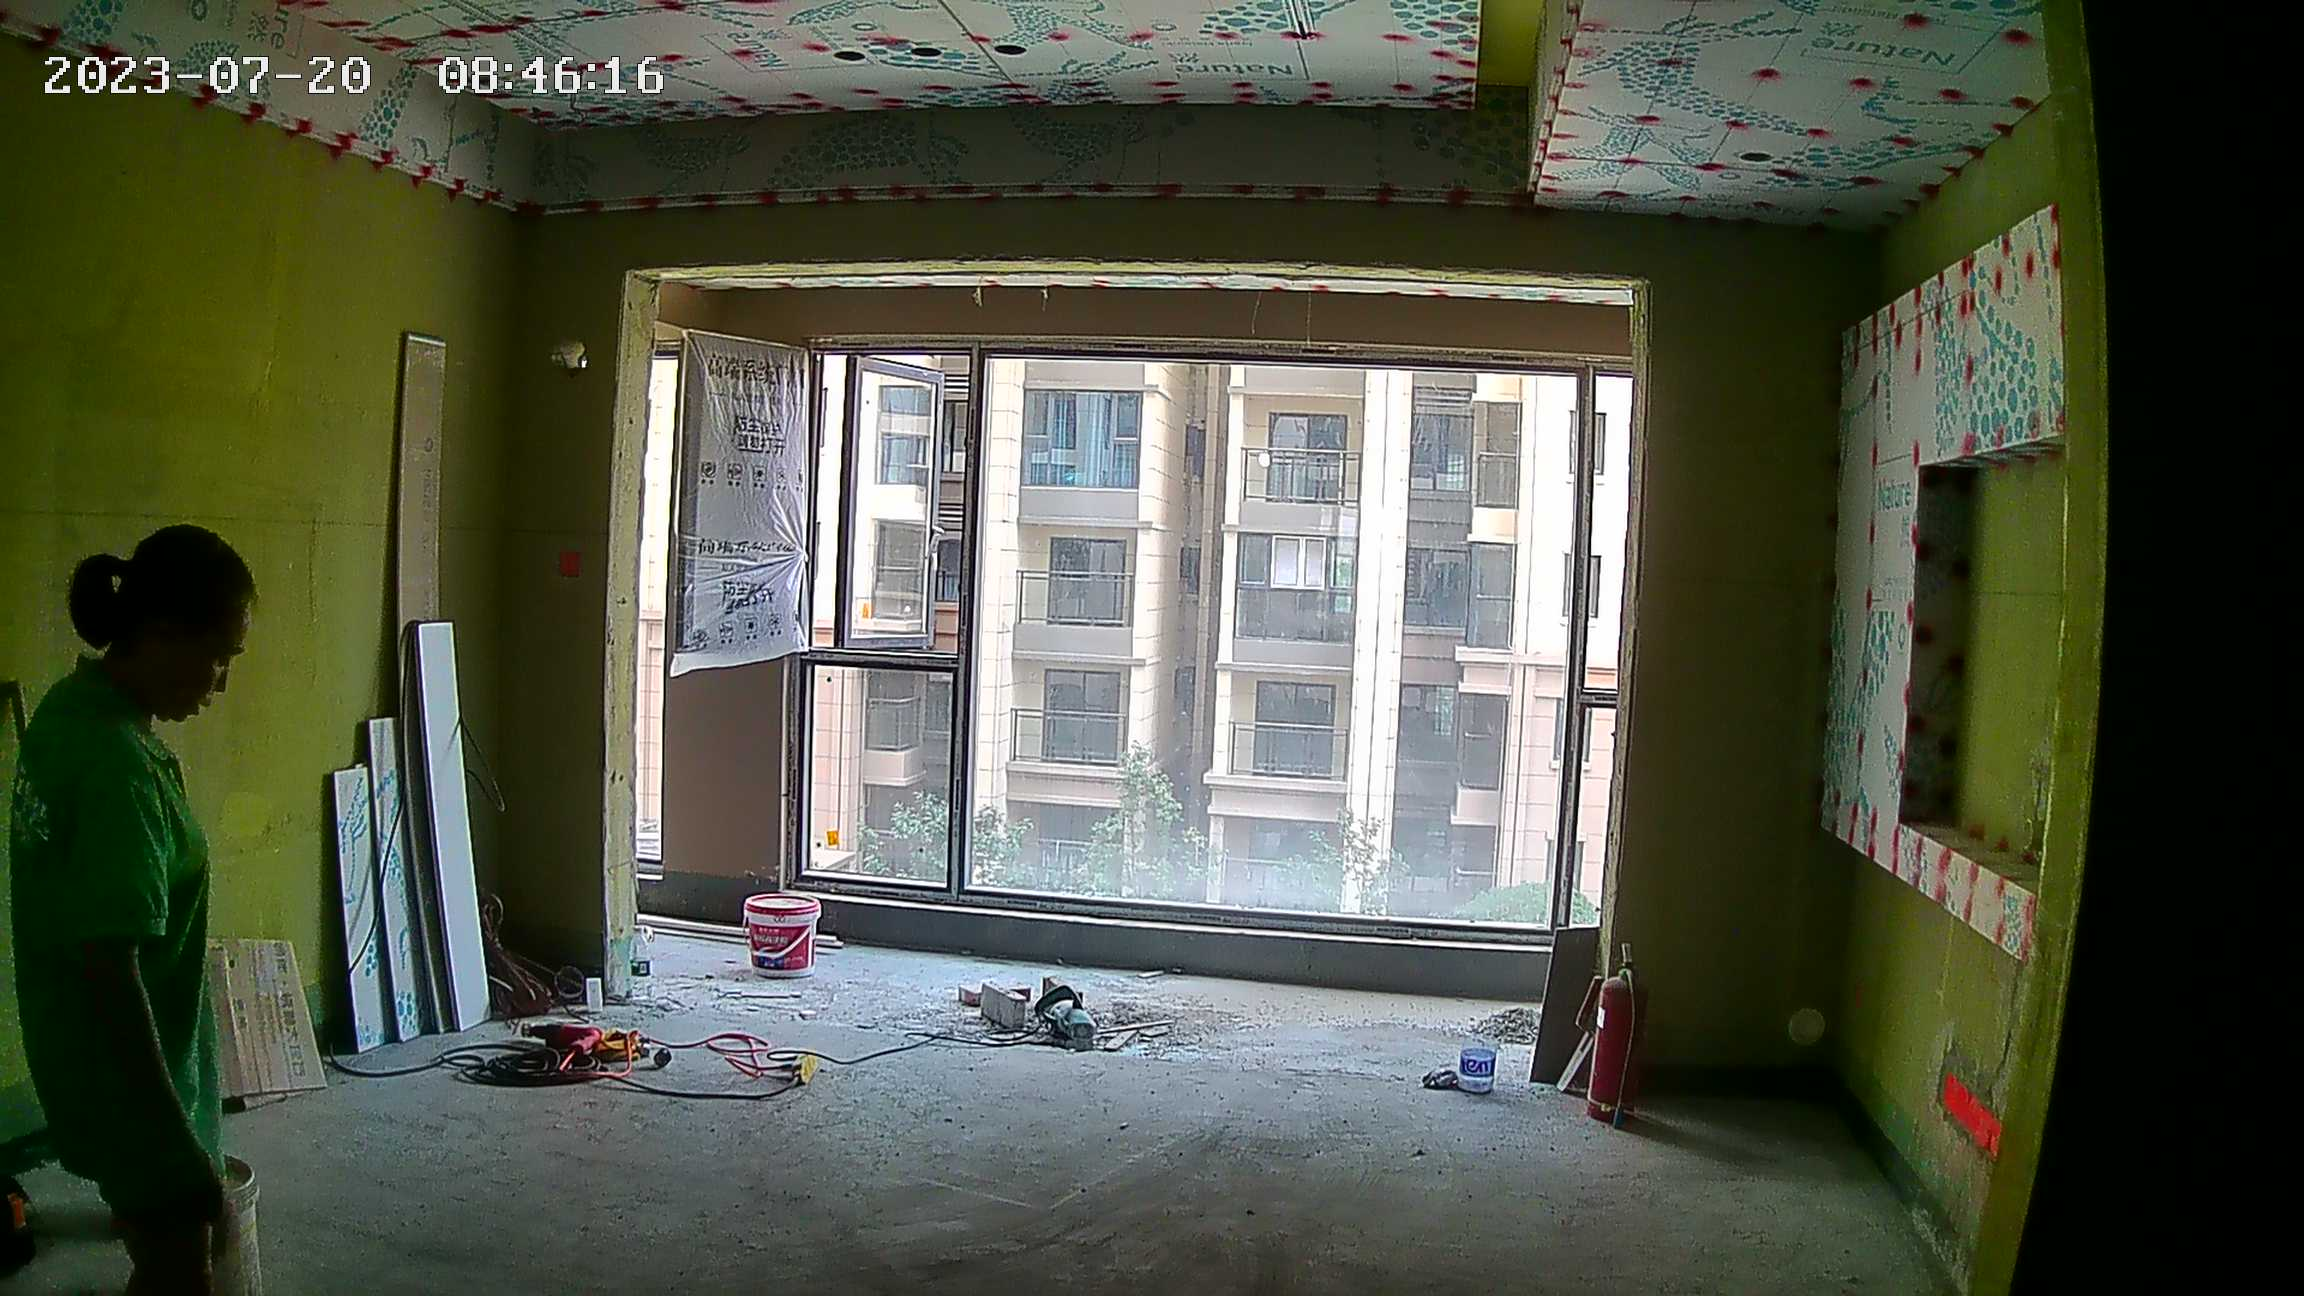people: (20, 526, 266, 1296)
window: (817, 350, 1608, 940)
